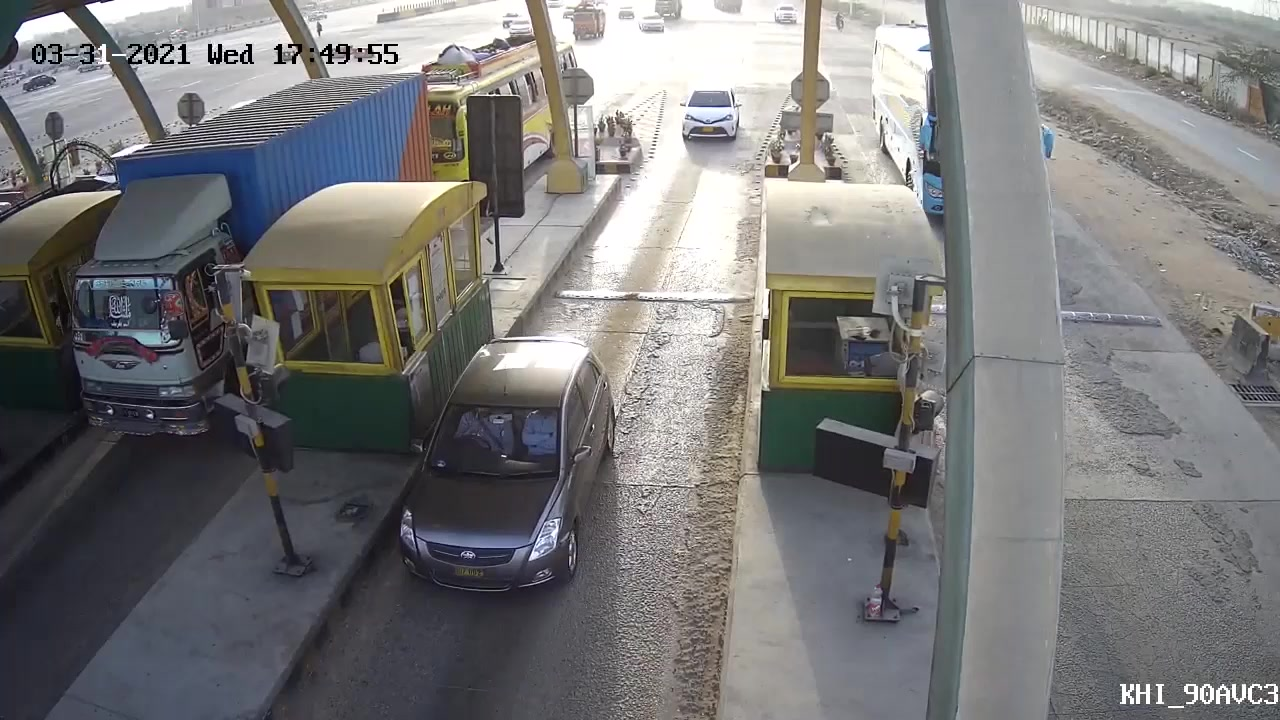F1: (391, 331, 633, 601), (676, 81, 741, 146)
